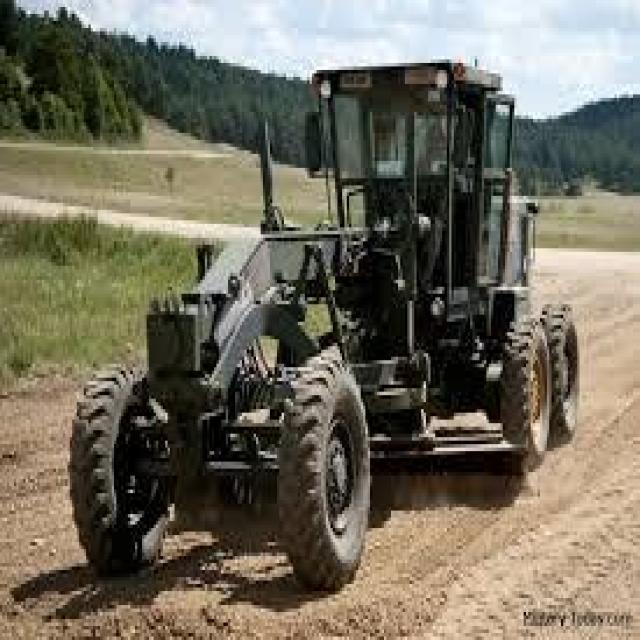buldozerpayloadergrader: (65, 25, 584, 584)
